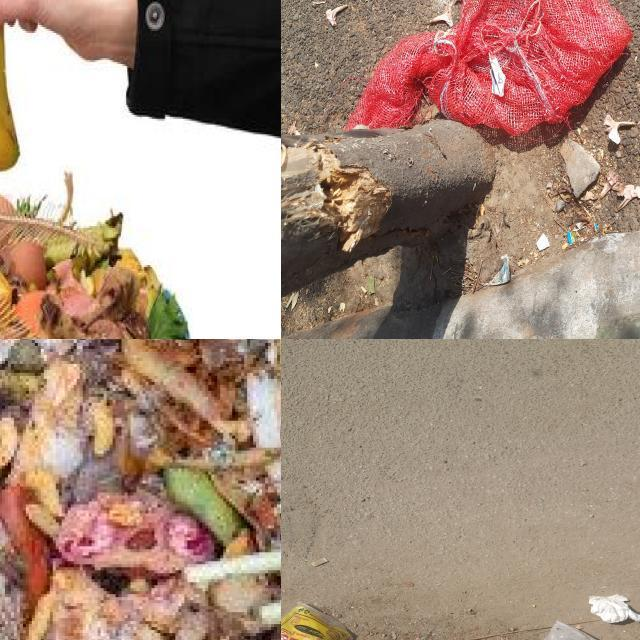Background: (281, 0, 640, 339), (281, 339, 640, 640)
Cig_bud: (310, 558, 329, 567)
Garbage: (0, 339, 281, 640), (0, 195, 193, 339)
Plastic_Bag: (346, 0, 632, 136), (281, 603, 351, 640)
Plastic_wraper: (485, 255, 511, 285)
